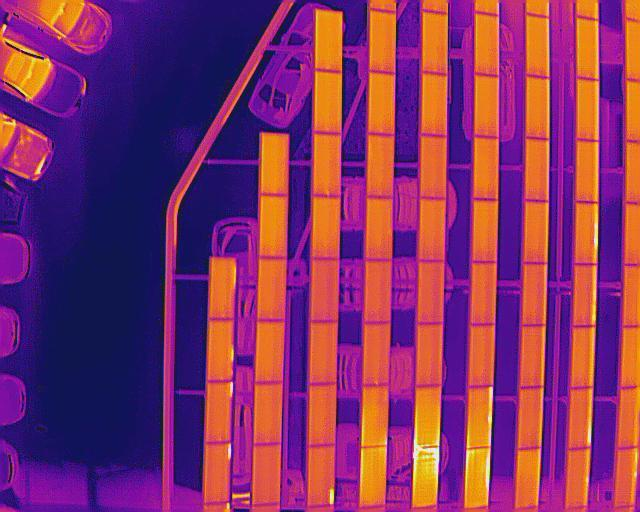Cell: (207, 319, 234, 381), (613, 447, 640, 508), (564, 446, 590, 509)
No-Anomaly: (254, 320, 284, 384), (256, 257, 286, 321), (358, 444, 387, 509), (253, 381, 282, 445), (468, 324, 497, 388), (311, 195, 340, 259), (360, 383, 388, 449), (363, 258, 391, 324), (313, 72, 342, 134), (417, 198, 446, 260), (309, 383, 337, 447), (469, 261, 497, 325), (208, 256, 236, 320), (366, 133, 394, 197), (312, 132, 340, 196), (416, 322, 443, 388), (363, 321, 390, 387), (310, 321, 338, 384), (259, 195, 287, 258), (419, 135, 447, 198), (471, 199, 498, 264), (367, 72, 395, 134), (310, 260, 338, 322), (417, 261, 444, 325), (253, 443, 280, 507), (420, 70, 446, 136), (314, 10, 342, 71), (522, 201, 549, 264), (260, 134, 288, 194), (570, 323, 595, 390), (365, 197, 392, 259), (517, 386, 543, 450), (519, 325, 545, 389), (520, 262, 546, 326), (523, 138, 549, 201), (572, 263, 597, 328), (514, 448, 540, 510), (474, 73, 499, 137), (473, 138, 498, 201), (369, 10, 394, 72), (525, 15, 549, 78), (475, 12, 499, 75), (616, 385, 640, 448), (422, 11, 446, 73), (525, 77, 549, 139), (576, 139, 599, 203), (576, 78, 599, 141), (576, 16, 598, 77)
Unclassified: (414, 384, 442, 447), (307, 444, 335, 507), (205, 382, 233, 444), (411, 446, 439, 508), (203, 442, 231, 504), (467, 385, 493, 449), (464, 446, 490, 508), (574, 200, 598, 265), (568, 388, 593, 450)
